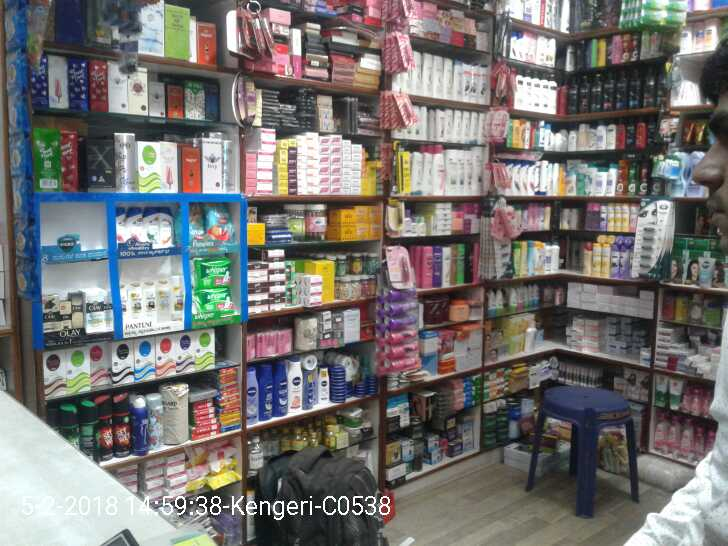beauty: (122, 274, 187, 323), (116, 207, 178, 247), (44, 289, 81, 332), (85, 289, 108, 330)
pharmacy: (187, 200, 237, 238), (189, 252, 236, 287), (193, 285, 238, 313)
